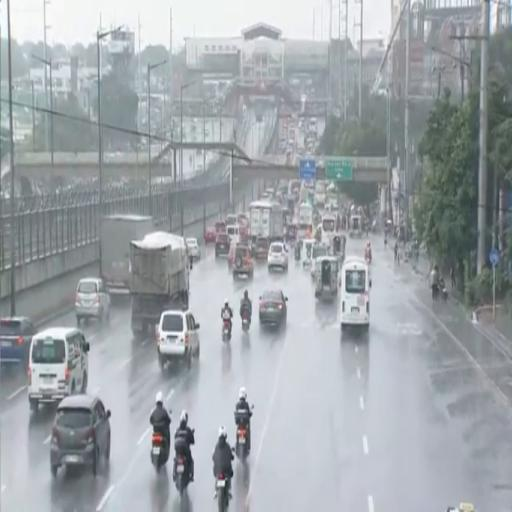car: (27, 328, 89, 411), (50, 394, 110, 476), (157, 309, 199, 370), (75, 278, 110, 326), (0, 317, 36, 363), (259, 291, 287, 326), (232, 244, 253, 278), (310, 244, 328, 278), (268, 243, 288, 271), (215, 233, 230, 258), (253, 237, 269, 260), (186, 237, 200, 261), (204, 227, 217, 244), (215, 221, 226, 233)
motorcycle: (173, 442, 190, 495), (151, 431, 169, 473), (236, 411, 250, 462), (152, 432, 168, 473), (174, 456, 189, 495), (216, 474, 229, 511), (438, 279, 447, 302), (222, 319, 231, 341), (242, 310, 250, 331), (365, 251, 371, 264)
truck: (130, 232, 191, 334), (101, 215, 154, 294), (249, 201, 284, 242), (297, 203, 313, 239)
